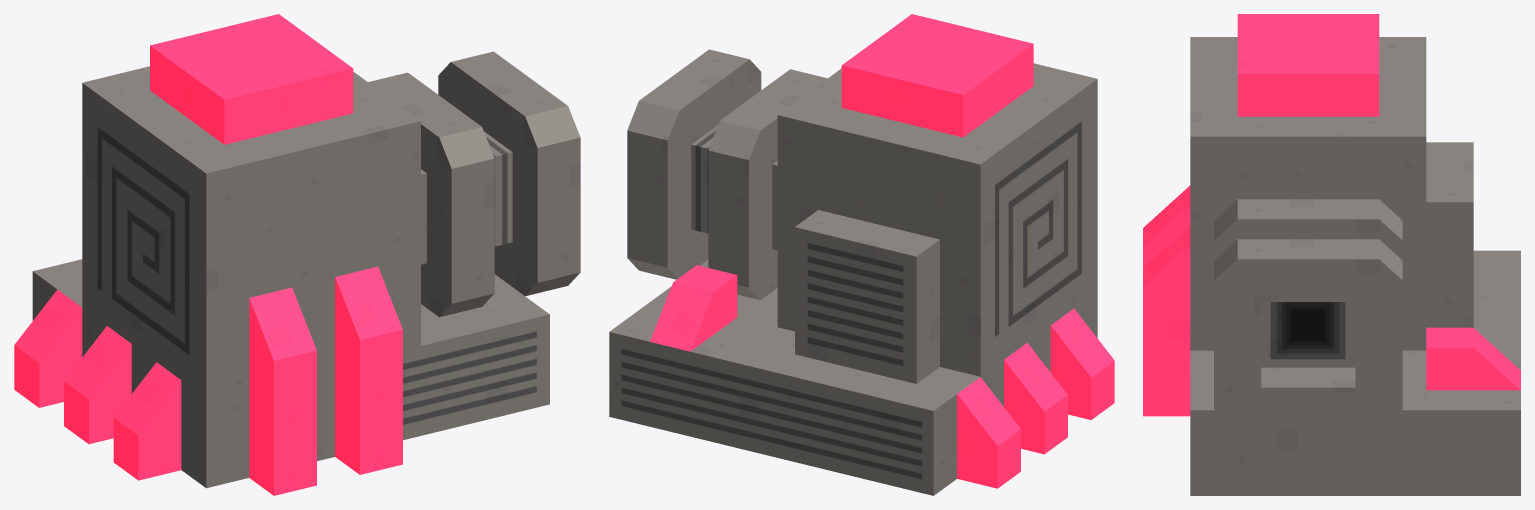
File: C2_real-fire bottle.FBX
3 renders of one model, left to right at view 1: azimuth 30°, elevation 25°; view 2: azimuth 150°, elevation 25°; view 3: azimuth 270°, elevation 25°, orthographic. The views are drawn at different scales.
Parts seen in each view (by area): view 1: Box003, Box007, Box002, Box010, Box015, Box016, Box014, Box012, Box013, Box008; view 2: Box003, Box002, Box007, Box009, Box010, Box012, Box011, Box014, Box013, Box008; view 3: Box007, Box003, Box002, Box010, Box009, Box016, Box008, Box011, Box015.
Part boxes in pixels (x1,y1,x2,y2): Box003: (82,66,420,398); Box007: (368,51,580,317); Box002: (32,259,549,488); Box010: (150,14,353,144); Box015: (249,287,316,495); Box016: (335,266,402,474); Box014: (113,362,181,480); Box012: (14,289,82,407); Box013: (64,326,131,444); Box008: (421,131,512,264); Box003: (777,63,1097,376); Box002: (609,260,1097,495); Box007: (627,49,827,300); Box009: (795,210,939,383); Box010: (841,14,1033,137); Box012: (957,377,1020,488); Box011: (650,265,737,351); Box014: (1050,308,1114,419); Box013: (1004,342,1067,454); Box008: (691,125,777,250); Box007: (1214,199,1402,430); Box003: (1190,37,1426,350); Box002: (1190,250,1520,495); Box010: (1237,14,1379,116); Box009: (1426,142,1473,327); Box016: (1143,225,1190,416); Box008: (1261,302,1355,367); Box011: (1426,327,1520,390); Box015: (1143,185,1190,267).
Size of the model in its own units: 118 by 94.49 by 94.49.
Materials: 1 (1 with a texture image).
